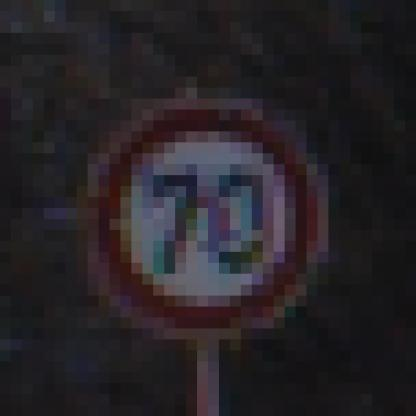Speed Limit 70: (99, 106, 318, 328)
